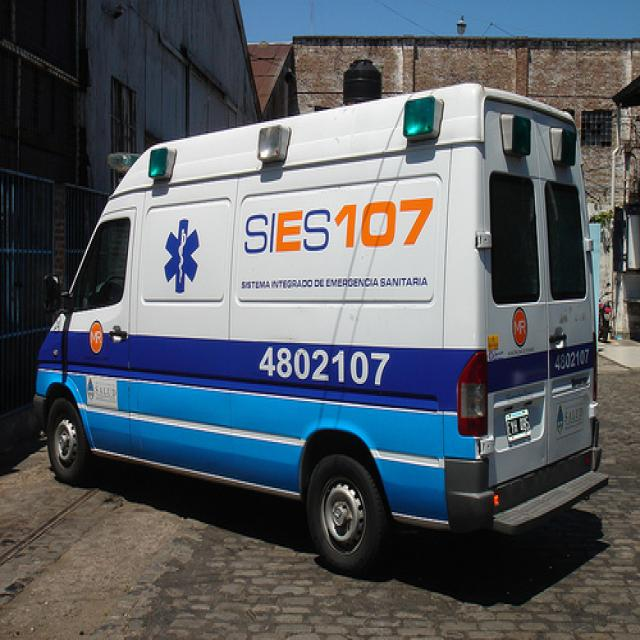emergency-vehicle: (43, 84, 612, 570)
